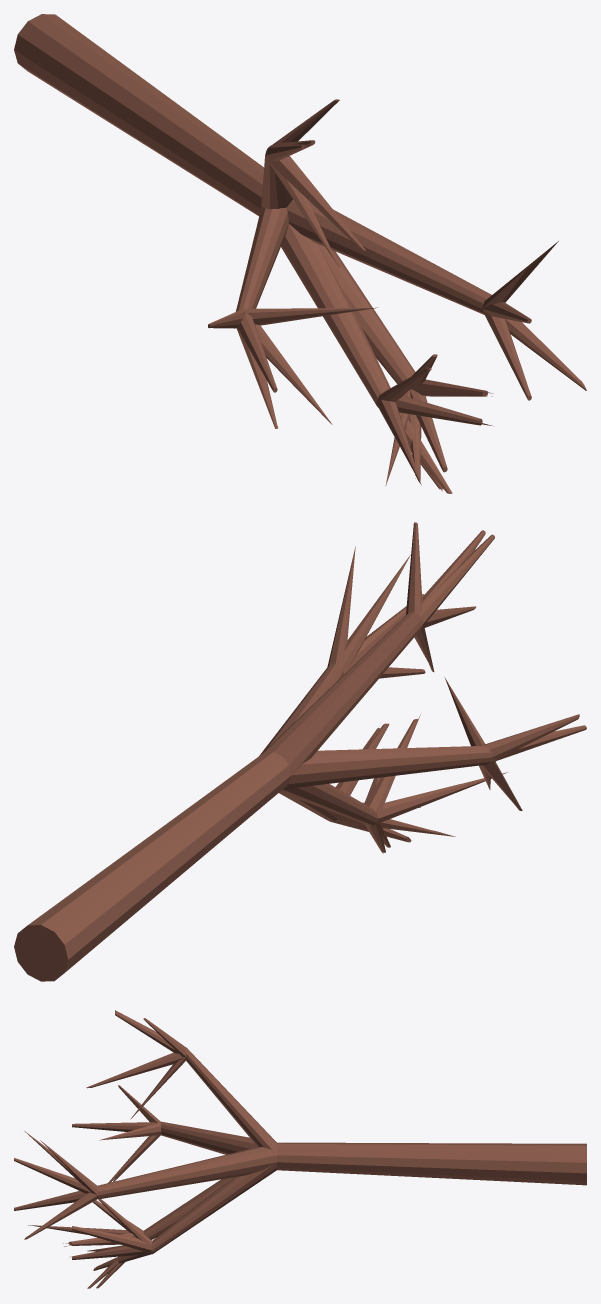
Rendered from tinker.obj.
3 renders of one model, top to bottom at view 1: azimuth 30°, elevation 25°; view 2: azimuth 150°, elevation 25°; view 3: azimuth 270°, elevation 25°, orthographic. The views are drawn at different scales.
Visible parts, largest first — view 1: obj_0; view 2: obj_0; view 3: obj_0.
Boxes of the visible parts, left/top/right/bottom form: obj_0: left=14, top=14, right=586, bottom=493; obj_0: left=14, top=522, right=586, bottom=981; obj_0: left=14, top=1010, right=586, bottom=1288.
Size of the model in its own units: 13.34 by 15.99 by 33.32.
